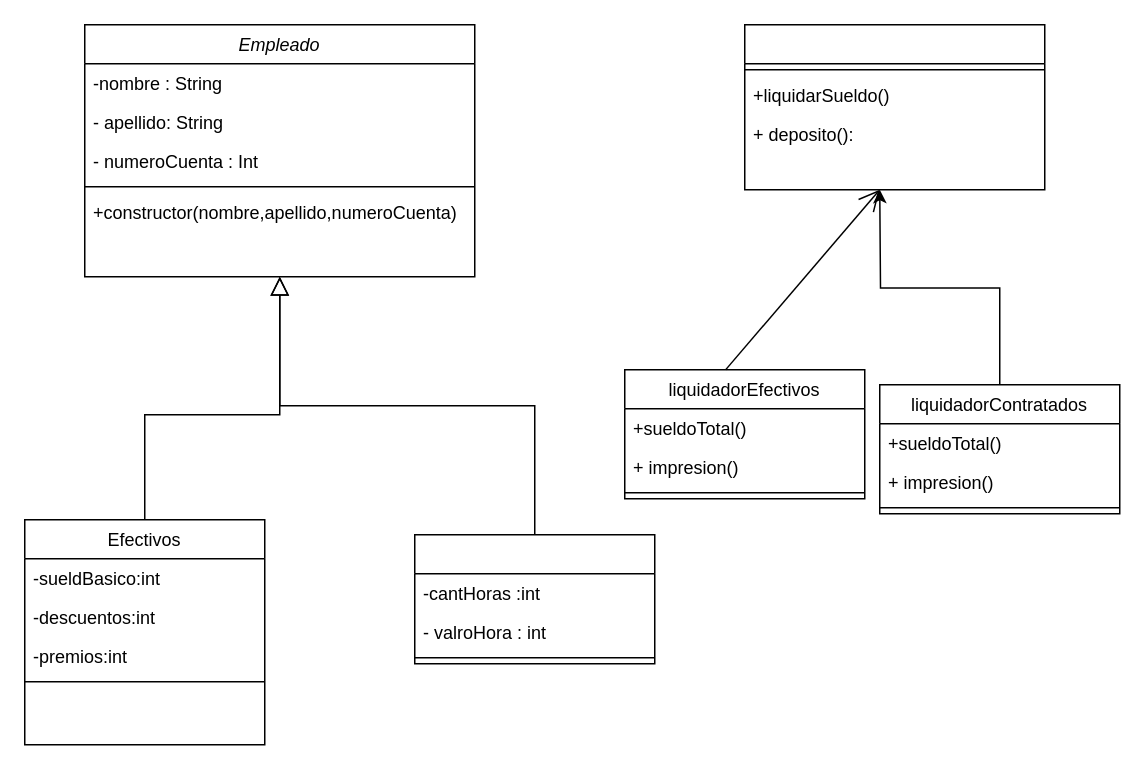
The diagram is 1145 pixels wide and 770 high, and some of its shapes have lost their labels. Each missing label, with the box of its shape:
Contratados: (413, 533, 655, 664)
Liquidador: (743, 23, 1045, 190)
